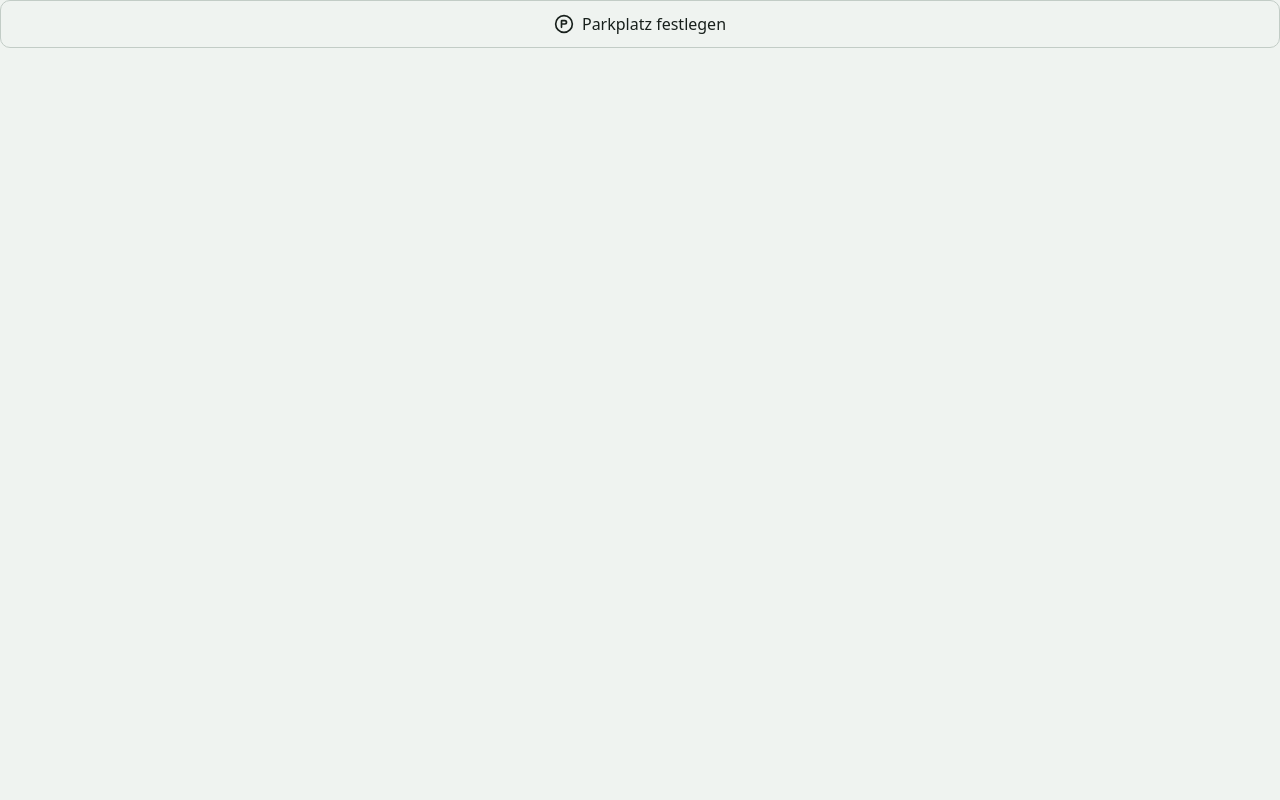
Test: ParkingSetButton in de › explains a refused position and switches to typing
The image size is (1280, 800).
Click the button with test id "parking-set" at point(640, 24), box [0,0,1279,48]
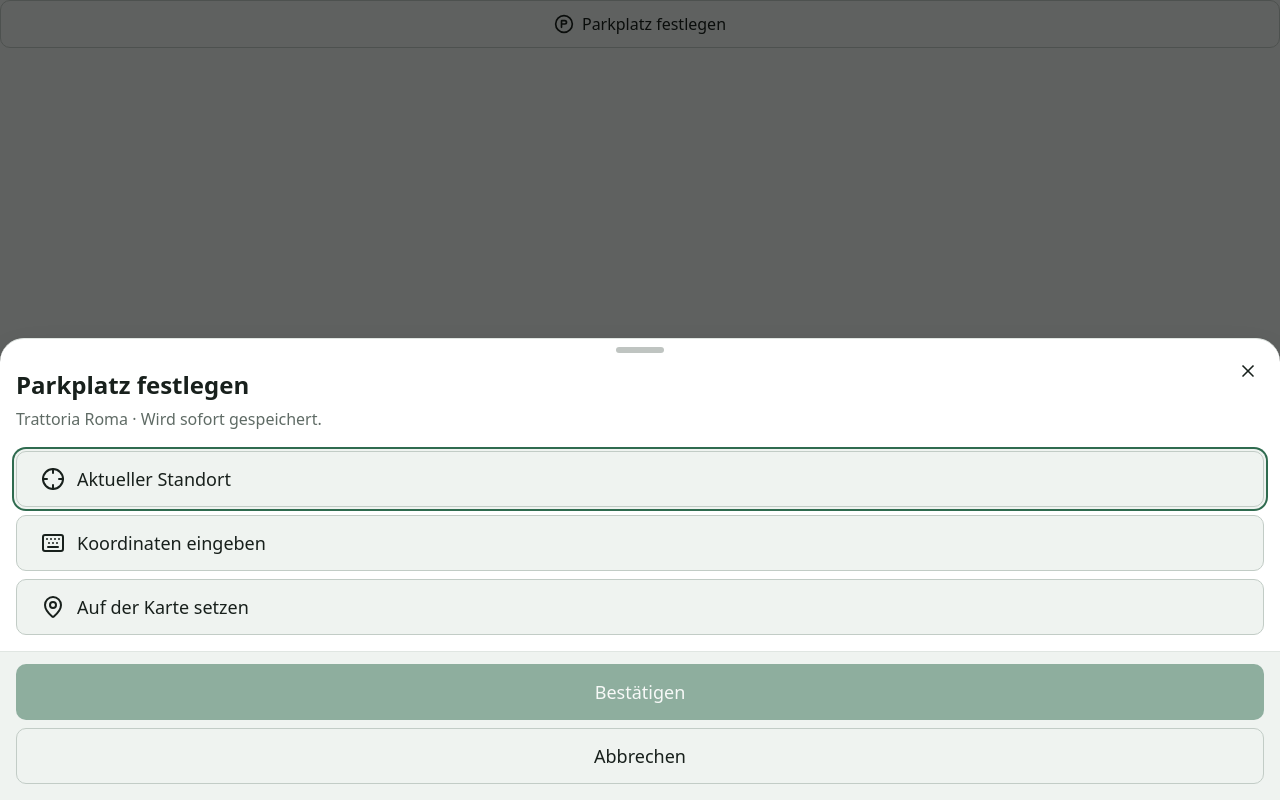
Click the button with test id "parking-mode-gps" at point(154, 479), box [16,451,1264,507]
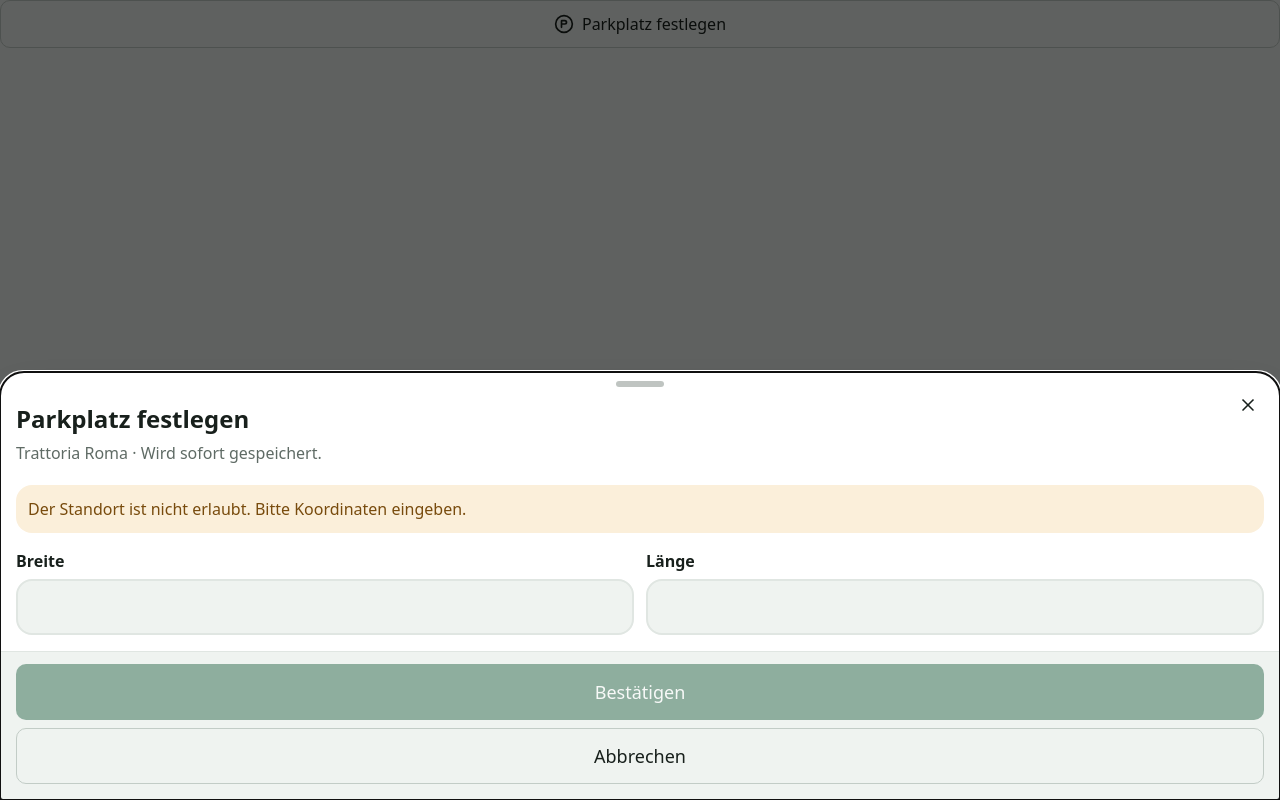
Check: the field with test id "parking-lat" is shown, box [16,579,634,635]
